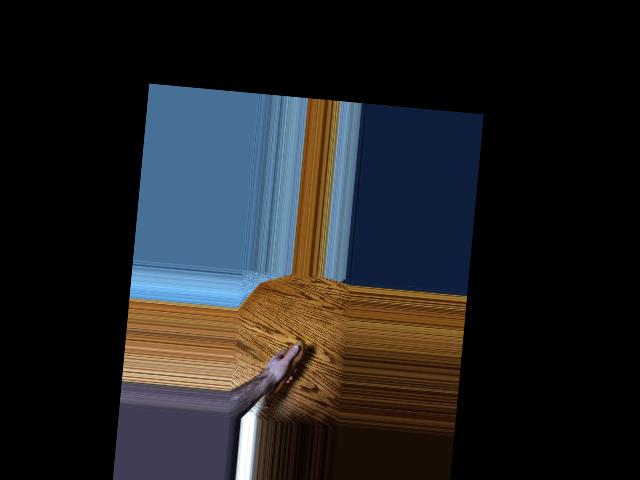sweet_potato: (260, 337, 307, 415)
